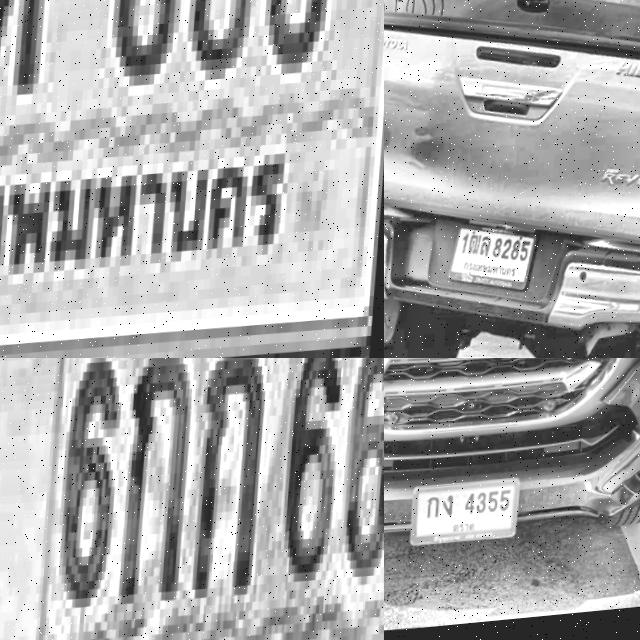license-plate: (0, 0, 384, 358), (0, 358, 384, 640), (411, 472, 529, 559), (453, 215, 542, 299)
